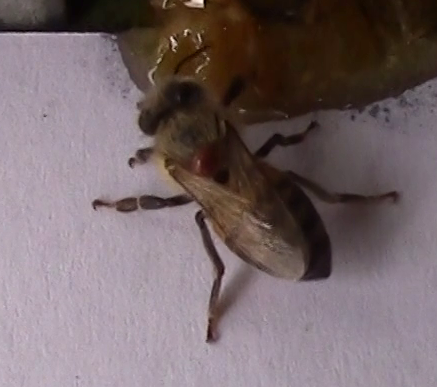Varroa destructor: (184, 137, 228, 179)
